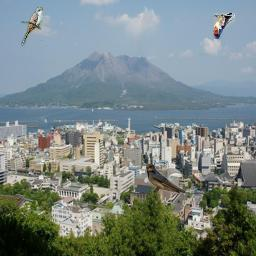Cuckoo: (21, 7, 43, 47)
Swallow: (146, 164, 186, 194), (213, 13, 235, 39)
